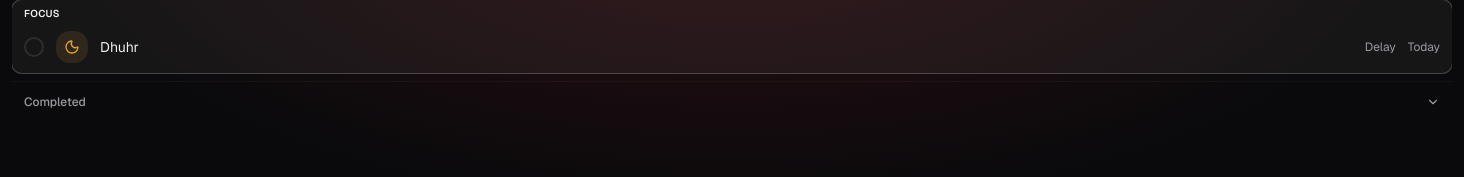
Test case: TodayTasks (priority rows) › the four active/completed combinations › both active and completed: shows the active row, no all-clear message, plus the Completed section
The image size is (1464, 177).
Expected: the text "Dhuhr" is shown, x1=100 y1=38 x2=139 y2=56
Click the button "Completed": (55, 102) x1=12 y1=86 x2=1452 y2=118
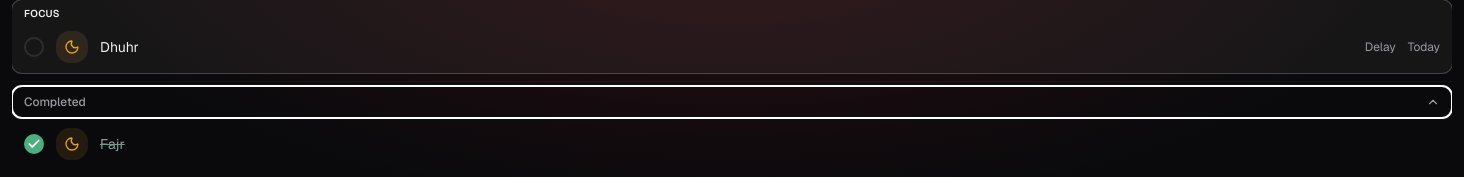
Result: the text "Fajr" is shown at x1=100 y1=135 x2=125 y2=153
